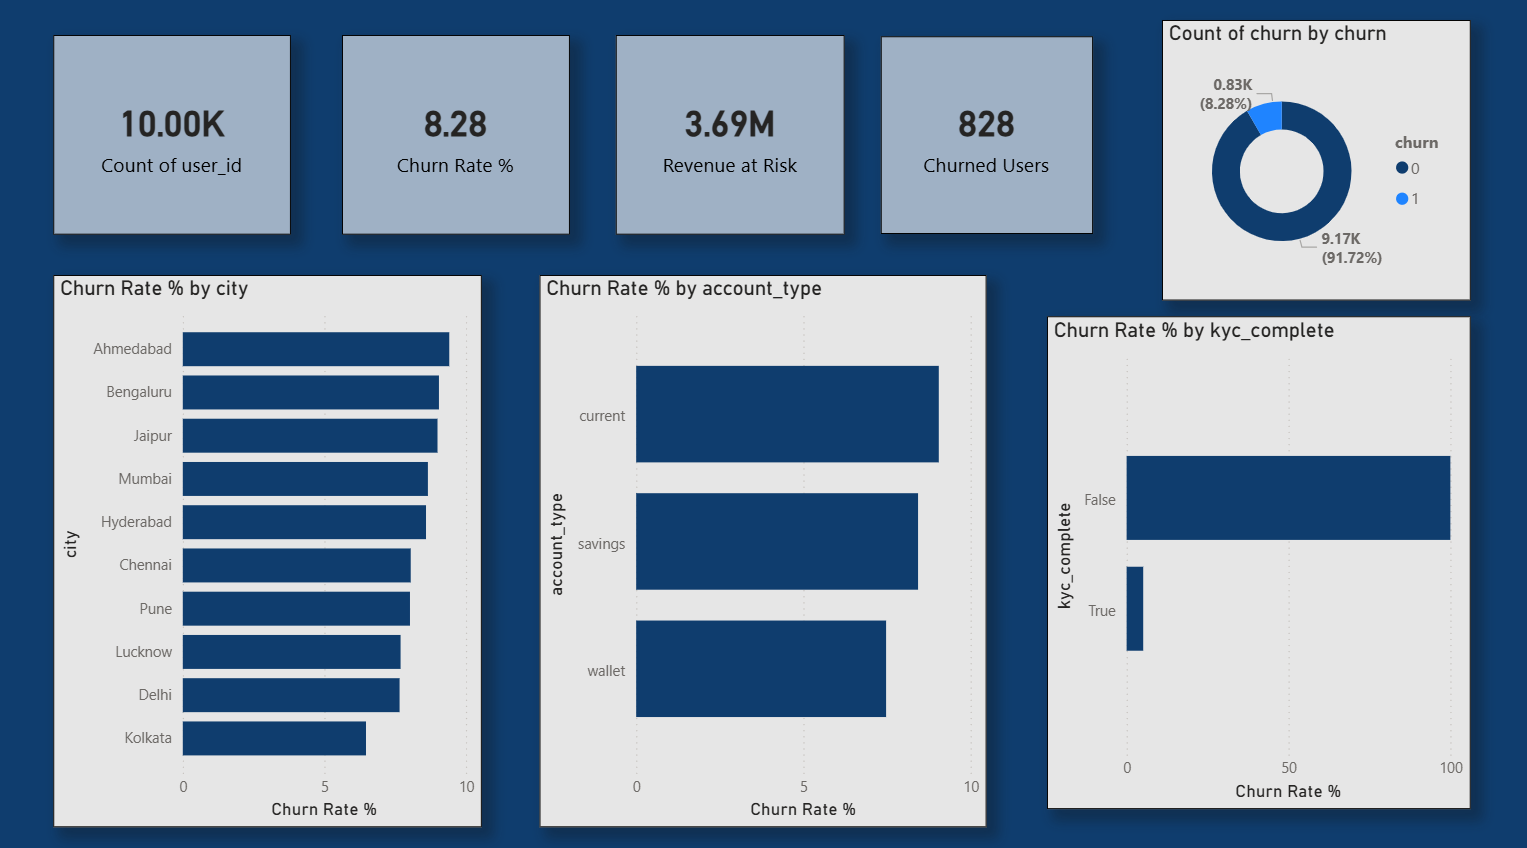

Layout of this report page (visuals, bound fields, positions):
{"tool":"powerbi","page":{"name":"Executive  Overview","canvas":[1280,720],"ordinal":0},"visuals":[{"type":"card","fields":{"Values":["CountNonNull(master_features.user_id)"]},"box":[46.5,37.2,195.3,164],"z":0},{"type":"card","fields":{"Values":["master_features.Churn Rate %"]},"box":[283.7,37.2,187.2,164],"z":1000},{"type":"card","fields":{"Values":["master_features.Revenue at Risk"]},"box":[508.1,37.2,188.4,164],"z":2000},{"type":"card","fields":{"Values":["master_features.Churned Users"]},"box":[725.6,38.4,174.4,162.8],"z":3000},{"type":"donutChart","fields":{"Category":["master_features.churn"],"Y":["CountNonNull(master_features.churn)"]},"box":[957,24.4,253.5,230.2],"z":4000},{"type":"clusteredBarChart","fields":{"Y":["master_features.Churn Rate %"],"Category":["master_features.city"]},"box":[46.5,233.7,352.3,453.5],"z":5000},{"type":"clusteredBarChart","fields":{"Y":["master_features.Churn Rate %"],"Category":["master_features.kyc_complete"]},"box":[862.8,267.4,347.7,404.7],"z":6000},{"type":"clusteredBarChart","fields":{"Y":["master_features.Churn Rate %"],"Category":["master_features.account_type"]},"box":[445.4,233.7,367.4,453.5],"z":7000}]}

Visuals, with their boxes in screenshot pixels (x1, y1, x2, y2), scaled from the page's 1280x720 canvas onto the 1527x848 screenshot:
card - CountNonNull(master_features.user_id): 55 44 288 237
card - master_features.Churn Rate %: 338 44 562 237
card - master_features.Revenue at Risk: 606 44 831 237
card - master_features.Churned Users: 866 45 1074 237
donutChart - master_features.churn x CountNonNull(master_features.churn): 1142 29 1444 300
clusteredBarChart - master_features.Churn Rate % x master_features.city: 55 275 476 809
clusteredBarChart - master_features.Churn Rate % x master_features.kyc_complete: 1029 315 1444 792
clusteredBarChart - master_features.Churn Rate % x master_features.account_type: 531 275 970 809
